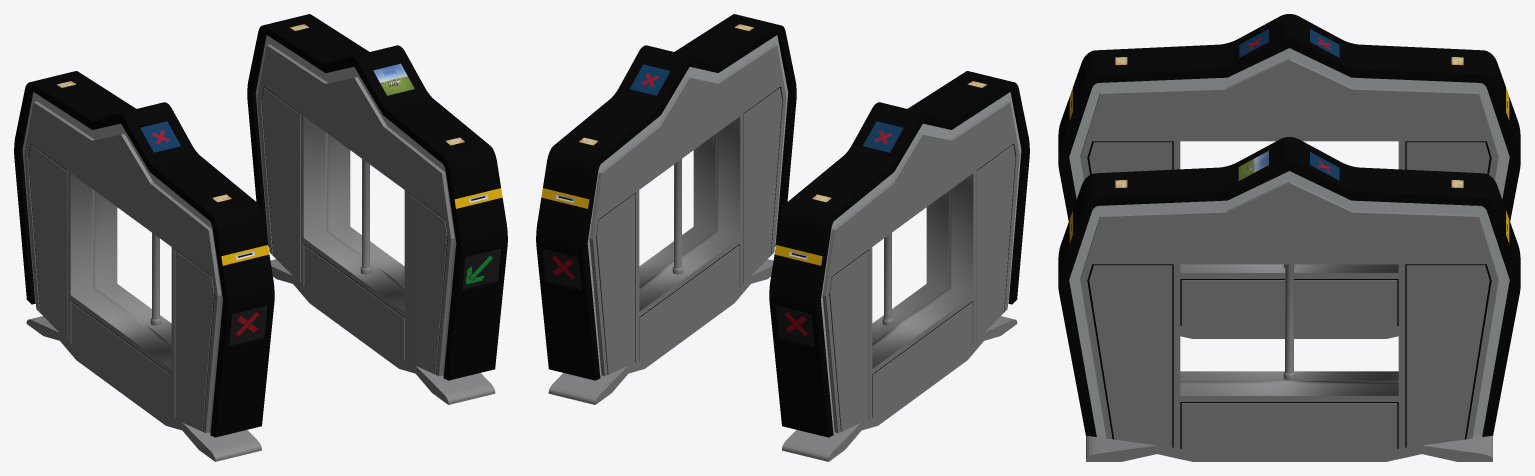
The model's file is mtr_ticketbarrier_1.obj.
3 renders of one model, left to right at view 1: azimuth 30°, elevation 25°; view 2: azimuth 150°, elevation 25°; view 3: azimuth 270°, elevation 25°, orthographic. The views are drawn at different scales.
Parts seen in each view (by area): view 1: 立方体.012, 立方体.013, 立方体.008, 立方体.005, 立方体.007, 立方体.001, 柱体, 柱体.001; view 2: 立方体.012, 立方体.013, 立方体.008, 立方体.005, 立方体.007, 立方体.001, 柱体, 柱体.001; view 3: 立方体.013, 立方体.012, 立方体.005, 立方体.001, 立方体.008, 立方体.007, 柱体.
Part boxes in pixels (<box>): 立方体.012: <box>14,71,274,437</box>; 立方体.013: <box>247,14,507,380</box>; 立方体.008: <box>70,173,171,368</box>; 立方体.005: <box>303,116,404,311</box>; 立方体.007: <box>26,316,261,461</box>; 立方体.001: <box>270,259,495,404</box>; 柱体: <box>360,159,371,274</box>; 柱体.001: <box>150,233,161,325</box>; 立方体.012: <box>769,71,1029,437</box>; 立方体.013: <box>536,14,796,380</box>; 立方体.008: <box>872,173,973,368</box>; 立方体.005: <box>639,116,740,311</box>; 立方体.007: <box>782,316,1017,461</box>; 立方体.001: <box>548,259,773,404</box>; 柱体: <box>672,159,683,274</box>; 柱体.001: <box>882,233,893,325</box>; 立方体.013: <box>1058,137,1520,455</box>; 立方体.012: <box>1058,14,1520,332</box>; 立方体.005: <box>1180,371,1398,395</box>; 立方体.001: <box>1086,435,1492,461</box>; 立方体.008: <box>1180,264,1398,272</box>; 立方体.007: <box>1180,326,1398,338</box>; 柱体: <box>1283,264,1295,379</box>.
Size of the model in its own units: 1.2 by 1.14 by 1.59.
12 materials, 12 textured.
